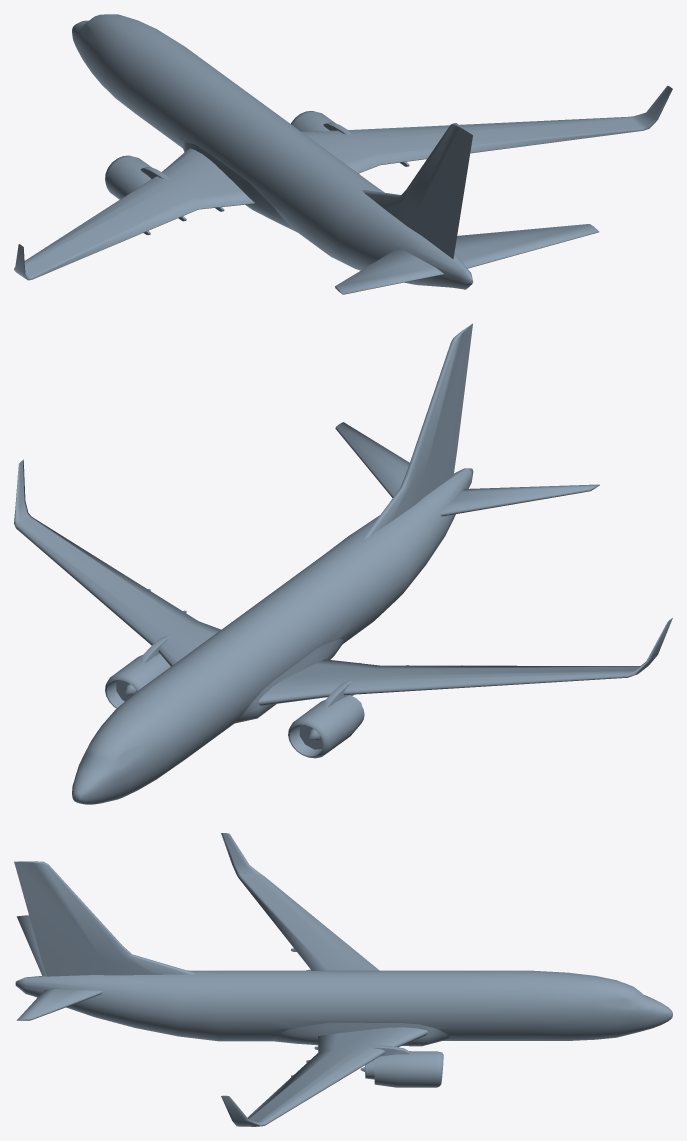
3 views of the same model, one above another, from view 1: azimuth 30°, elevation 25°; view 2: azimuth 150°, elevation 25°; view 3: azimuth 270°, elevation 25° (orthographic). The views are drawn at different scales.
Visible parts, largest first — view 1: body; view 2: body; view 3: body.
Part boxes in pixels (bbox=[...]): body: bbox=[14, 14, 672, 294]; body: bbox=[14, 323, 672, 804]; body: bbox=[14, 833, 672, 1126].
Bounding box in the file's own units: 35.74 × 11.88 × 37.87.
